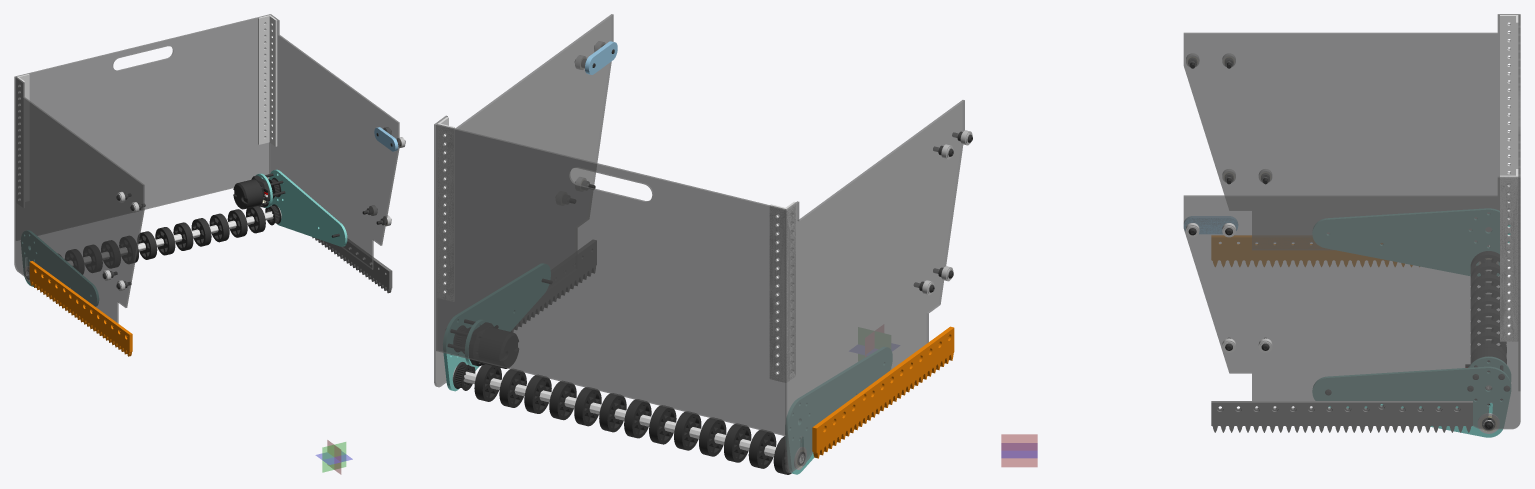
3 views of the same model, side by side, from view 1: azimuth 30°, elevation 25°; view 2: azimuth 150°, elevation 25°; view 3: azimuth 270°, elevation 25° (orthographic). The views are drawn at different scales.
Parts seen in each view (by area): view 1: Hopper Front, Sliding wall (×2), Roller C Arm (×2), Hopper Corner (×2), Lantern Rack-Mirrored, 2" Thrifty Squish Wheel (45A, 1" Wide, 1/2" Hex Bore) (×6), Lantern Rack, NEO 2.0 Brushless Motor, 1/2" Rounded Hex (21" L, 13.75mm OD, 6061); view 2: Hopper Front, Sliding wall (×2), 2" Thrifty Squish Wheel (45A, 1" Wide, 1/2" Hex Bore) (×12), Roller C Arm (×2), Hopper Corner (×2), Lantern Rack-Mirrored, NEO 2.0 Brushless Motor, 1/2" Rounded Hex (21" L, 13.75mm OD, 6061), Lantern Rack, Part 11; view 3: Sliding wall (×2), Roller C Arm (×2), Lantern Rack, Hopper Corner (×2), Lantern Rack-Mirrored, YZ Plane (×2), Hopper Front, Part 11.
Boxes of the visible parts, x1=… form: Hopper Front: x1=16, y1=14, x2=270, y2=240; Sliding wall (×2): x1=14, y1=14, x2=399, y2=323; Roller C Arm (×2): x1=21, y1=169, x2=347, y2=306; Hopper Corner (×2): x1=17, y1=15, x2=277, y2=207; Lantern Rack-Mirrored: x1=29, y1=261, x2=132, y2=356; 2" Thrifty Squish Wheel (45A, 1" Wide, 1/2" Hex Bore) (×6): x1=137, y1=209, x2=247, y2=259; Lantern Rack: x1=312, y1=237, x2=392, y2=293; NEO 2.0 Brushless Motor: x1=233, y1=175, x2=271, y2=209; 1/2" Rounded Hex (21" L, 13.75mm OD, 6061): x1=26, y1=211, x2=273, y2=277; Hopper Front: x1=436, y1=124, x2=785, y2=435; Sliding wall (×2): x1=434, y1=14, x2=964, y2=472; 2" Thrifty Squish Wheel (45A, 1" Wide, 1/2" Hex Bore) (×12): x1=474, y1=364, x2=776, y2=468; Roller C Arm (×2): x1=443, y1=263, x2=892, y2=474; Hopper Corner (×2): x1=437, y1=117, x2=795, y2=382; Lantern Rack-Mirrored: x1=812, y1=326, x2=954, y2=458; NEO 2.0 Brushless Motor: x1=469, y1=322, x2=518, y2=368; 1/2" Rounded Hex (21" L, 13.75mm OD, 6061): x1=463, y1=371, x2=804, y2=463; Lantern Rack: x1=511, y1=240, x2=596, y2=331; Part 11: x1=585, y1=41, x2=617, y2=74; Sliding wall (×2): x1=1183, y1=14, x2=1520, y2=431; Roller C Arm (×2): x1=1312, y1=208, x2=1510, y2=437; Lantern Rack: x1=1211, y1=401, x2=1472, y2=432; Hopper Corner (×2): x1=1500, y1=15, x2=1518, y2=341; Lantern Rack-Mirrored: x1=1211, y1=235, x2=1412, y2=266; YZ Plane (×2): x1=1001, y1=434, x2=1037, y2=466; Hopper Front: x1=1518, y1=15, x2=1520, y2=390; Part 11: x1=1183, y1=216, x2=1237, y2=234.
Bounding box in the file's own units: 0.576 × 0.5715 × 0.7239.
